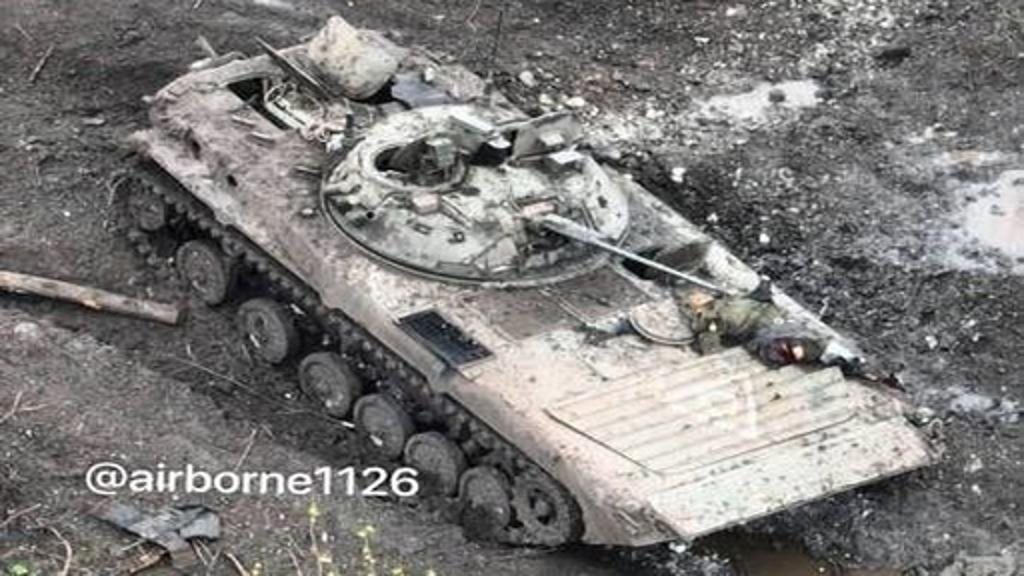APC-IFV: (100, 20, 946, 564)
